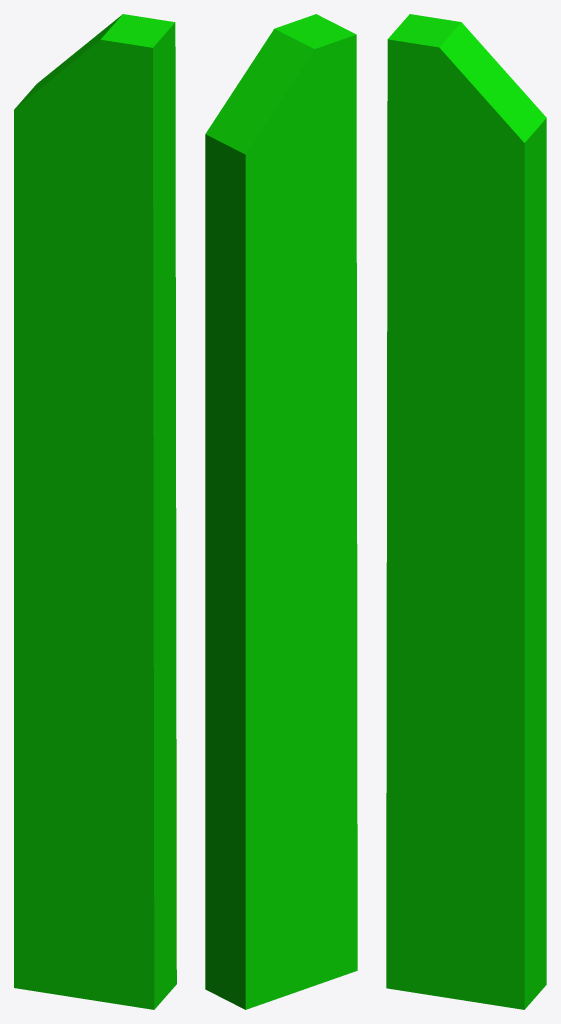
3 renders of one model, left to right at view 1: azimuth 90°, elevation 25°; view 2: azimuth 150°, elevation 25°; view 3: azimuth 270°, elevation 25°, orthographic. The views are drawn at different scales.
Parts seen in each view (by area): view 1: Cube.023; view 2: Cube.023; view 3: Cube.023.
Part boxes in pixels (bbox=[...]): Cube.023: bbox=[14, 14, 176, 1009]; Cube.023: bbox=[205, 14, 357, 1009]; Cube.023: bbox=[386, 14, 546, 1009].
Size of the model in its own units: 308 by 2900 by 445.
